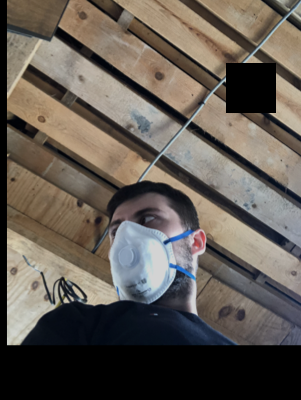with_mask: (107, 204, 171, 304)
